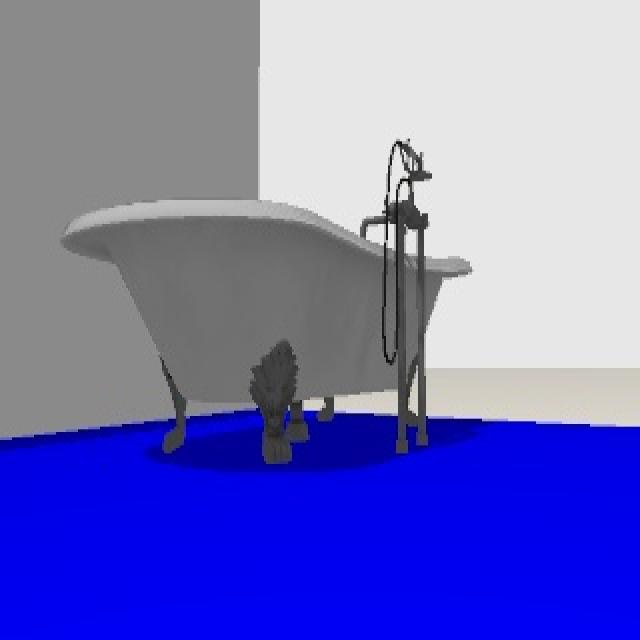bathtub: (73, 136, 468, 456)
